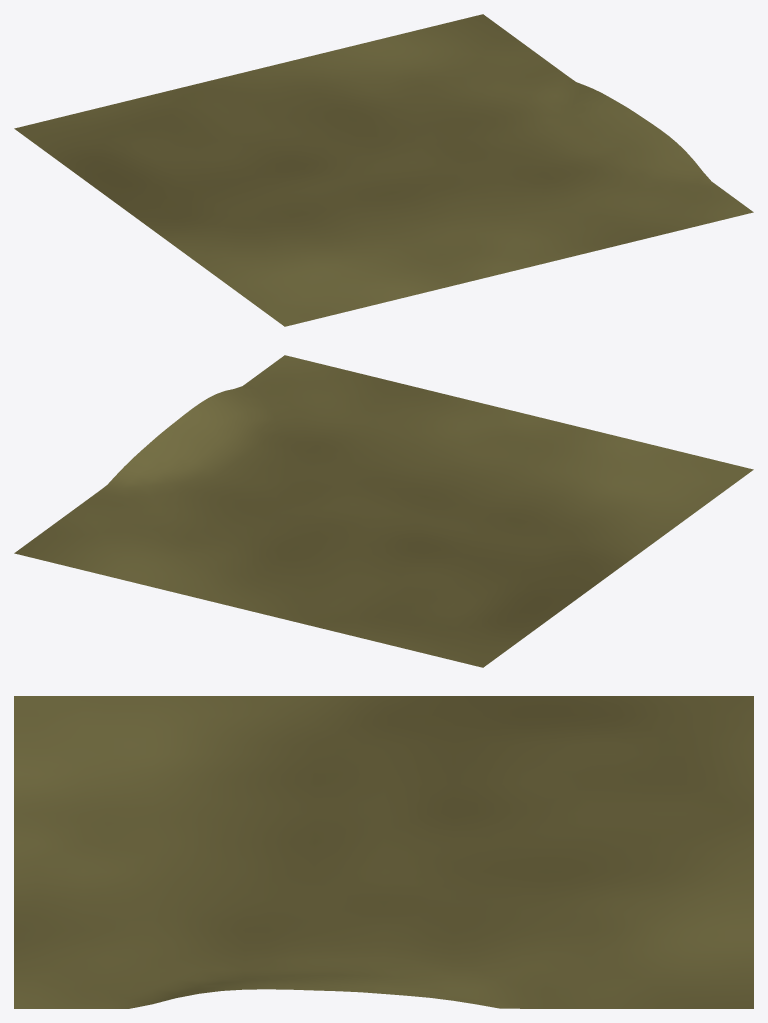
Rendered from terrain_lod0_-3_-2.obj.
3 views of the same model, one above another, from view 1: azimuth 30°, elevation 25°; view 2: azimuth 150°, elevation 25°; view 3: azimuth 270°, elevation 25° (orthographic). The views are drawn at different scales.
Parts seen in each view (by area): view 1: terrain_lod0_-3_-2; view 2: terrain_lod0_-3_-2; view 3: terrain_lod0_-3_-2.
Boxes of the visible parts, <box> form: terrain_lod0_-3_-2: <box>14,14,753,326</box>; terrain_lod0_-3_-2: <box>14,355,753,667</box>; terrain_lod0_-3_-2: <box>14,696,753,1008</box>.
Bounding box in the file's own units: 64 × 1.86 × 64.
